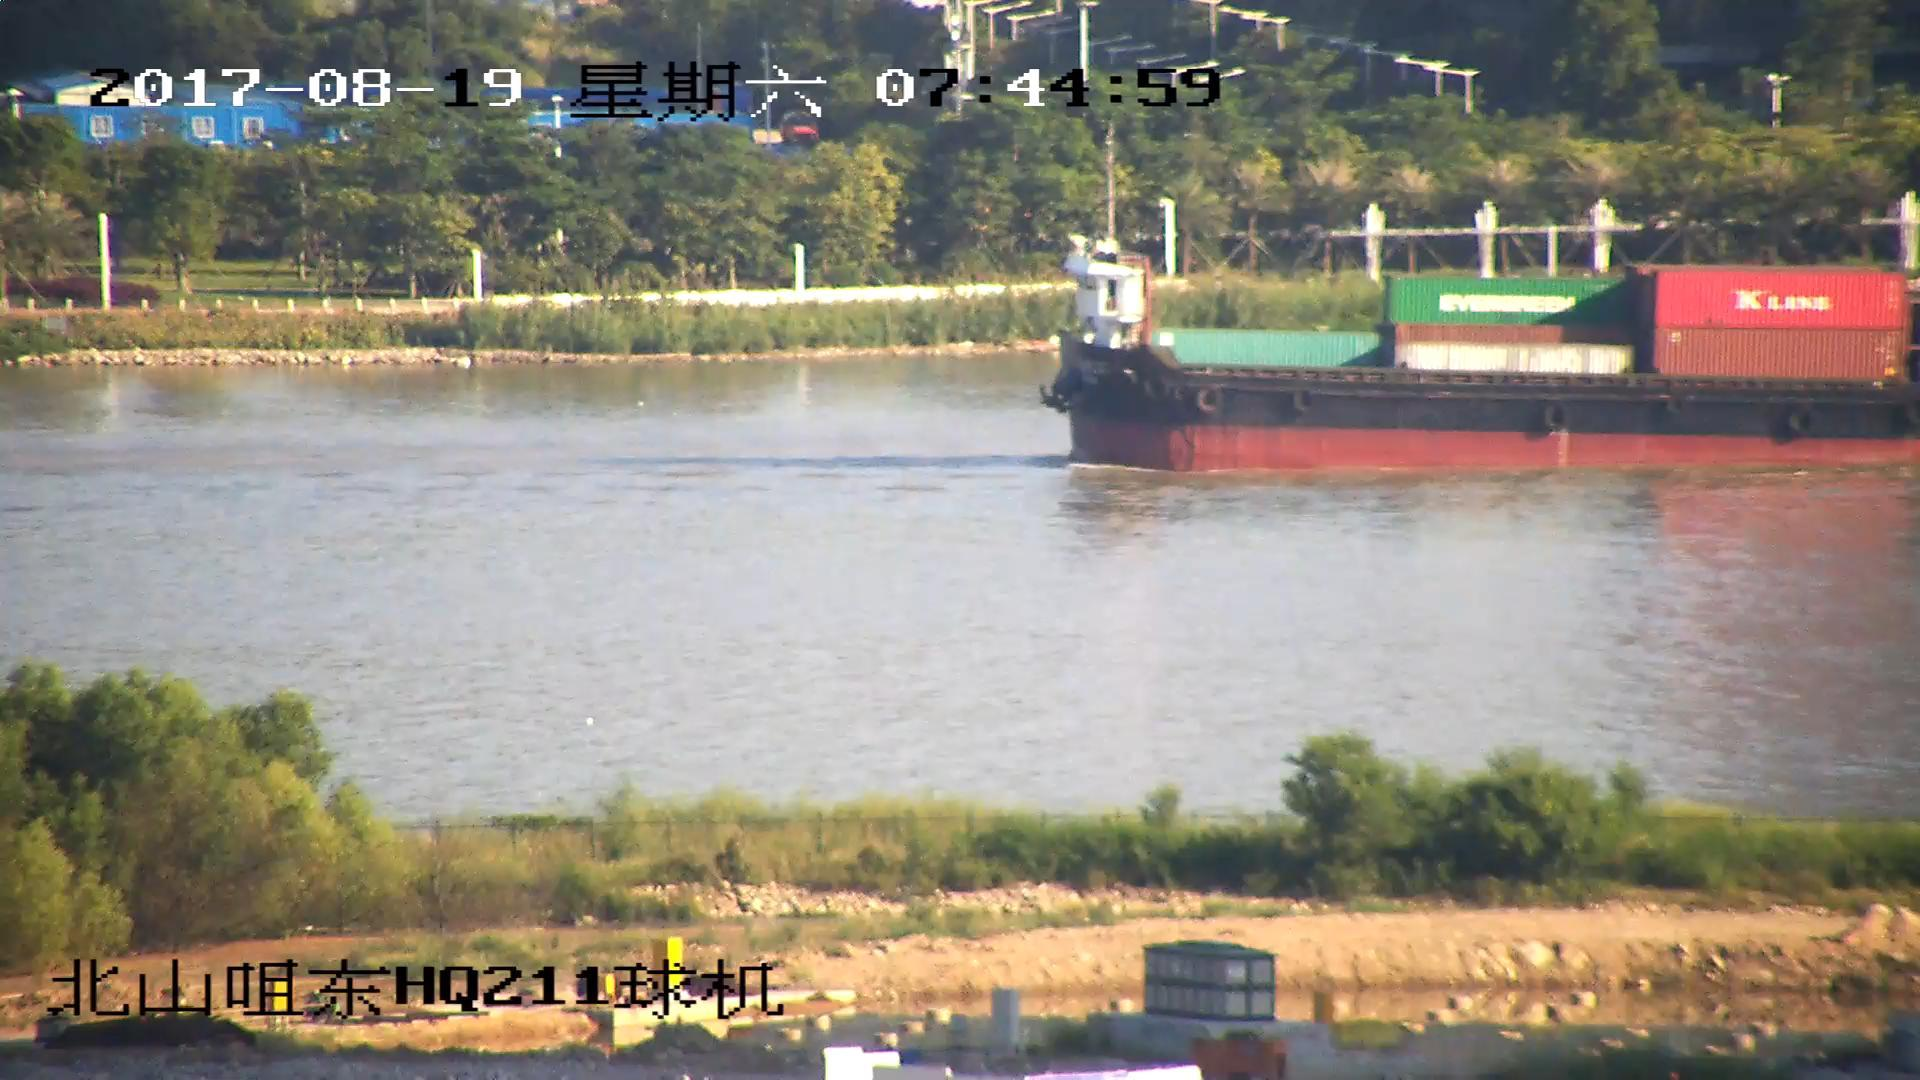Ship: (1038, 219, 1920, 480)
